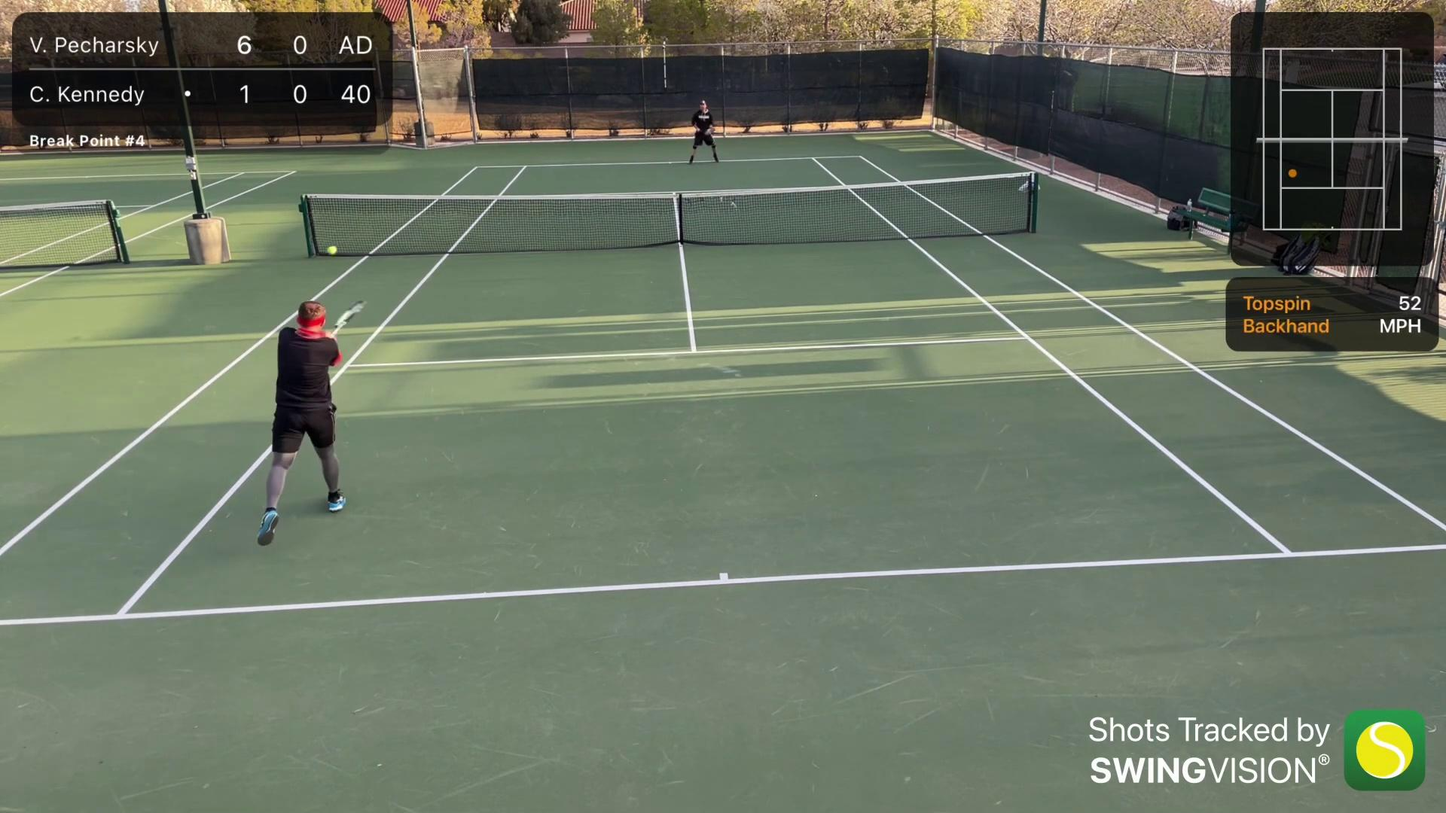ball: (324, 244, 338, 259)
